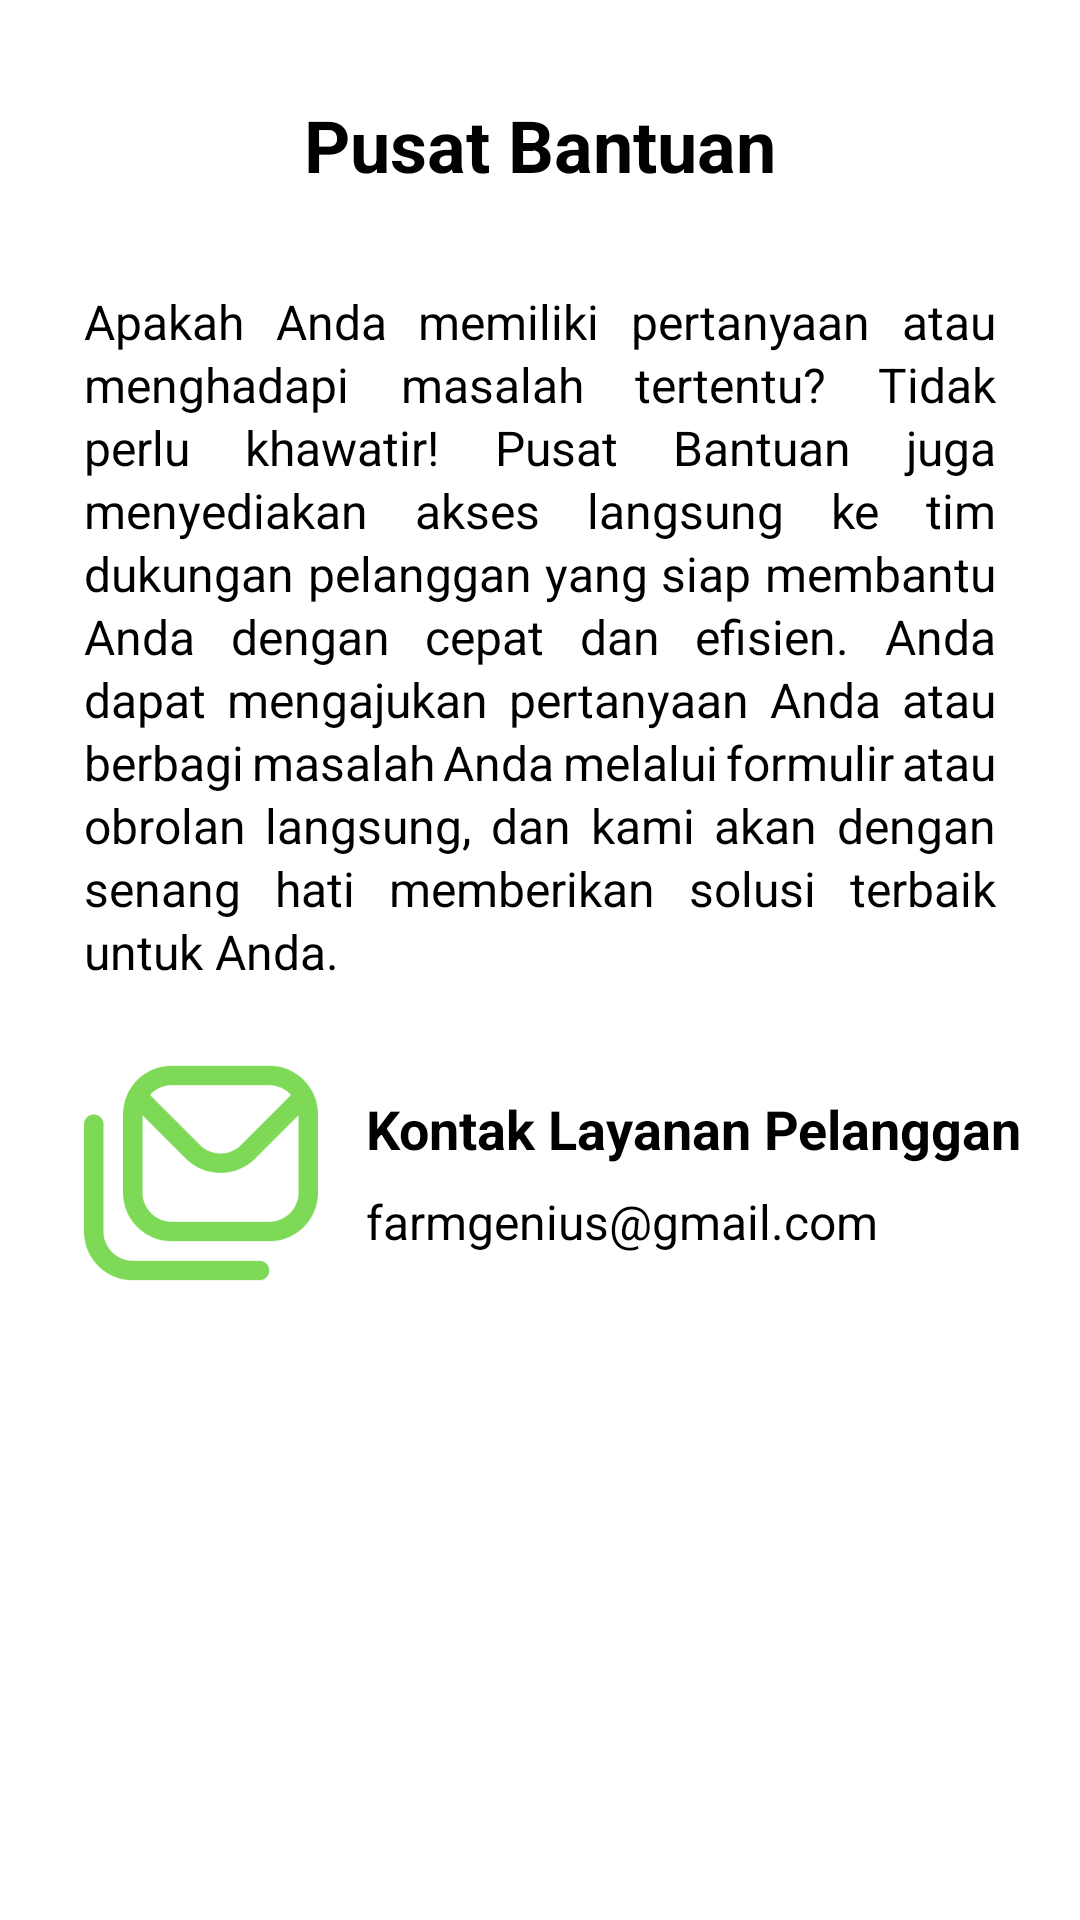

Icon click points for this 1080px x 1920px phone screenshot, format (x,y):
email help centre: (201,1173)
